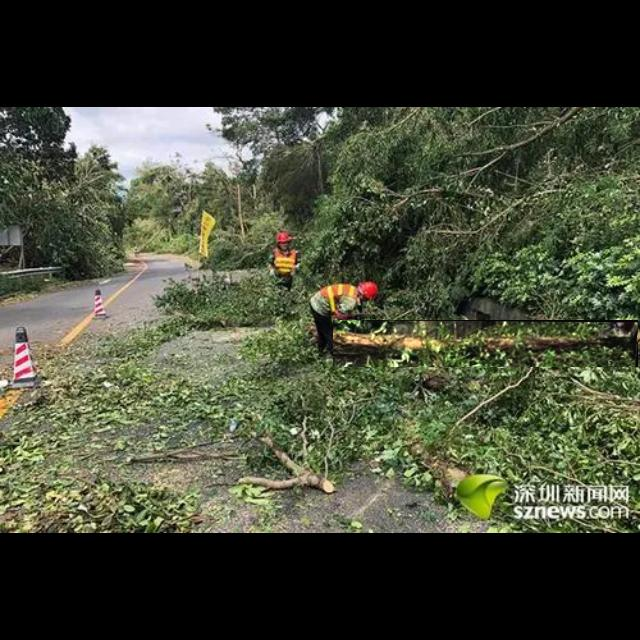Fallen Tree: (333, 320, 639, 368)
